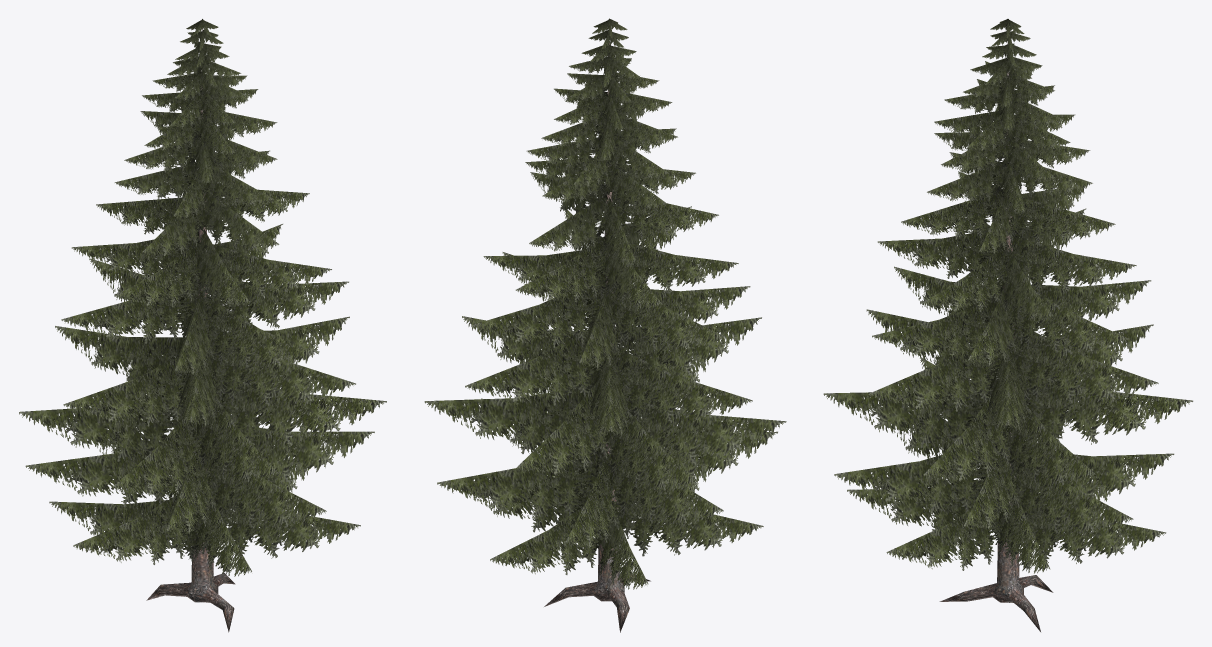
The model's file is Spruce.obj.
3 views of the same model, side by side, from view 1: azimuth 30°, elevation 25°; view 2: azimuth 150°, elevation 25°; view 3: azimuth 270°, elevation 25° (orthographic).
Visible parts, largest first — view 1: Spruce; view 2: Spruce; view 3: Spruce.
Part boxes in pixels (x1,y1,x2,y2): Spruce: [19, 19, 386, 632]; Spruce: [424, 18, 786, 632]; Spruce: [823, 19, 1193, 631].
Bounding box in the file's own units: 3.01 × 5.65 × 3.25.
2 materials, 2 textured.
